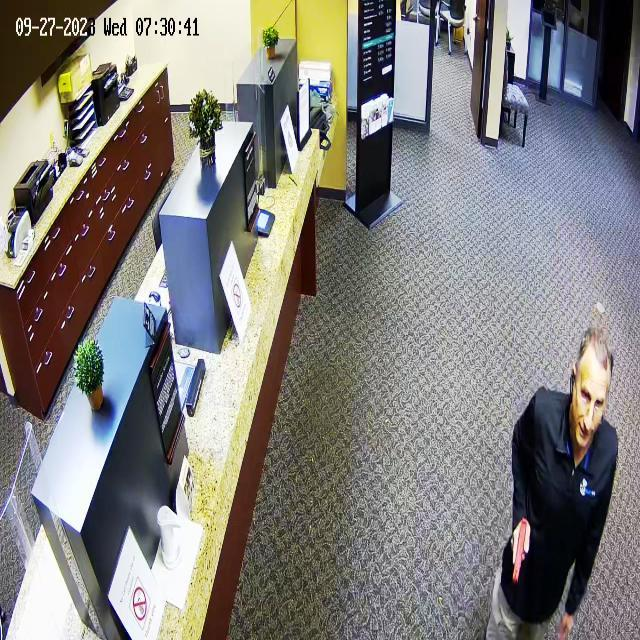Gun: (494, 503, 544, 589)
